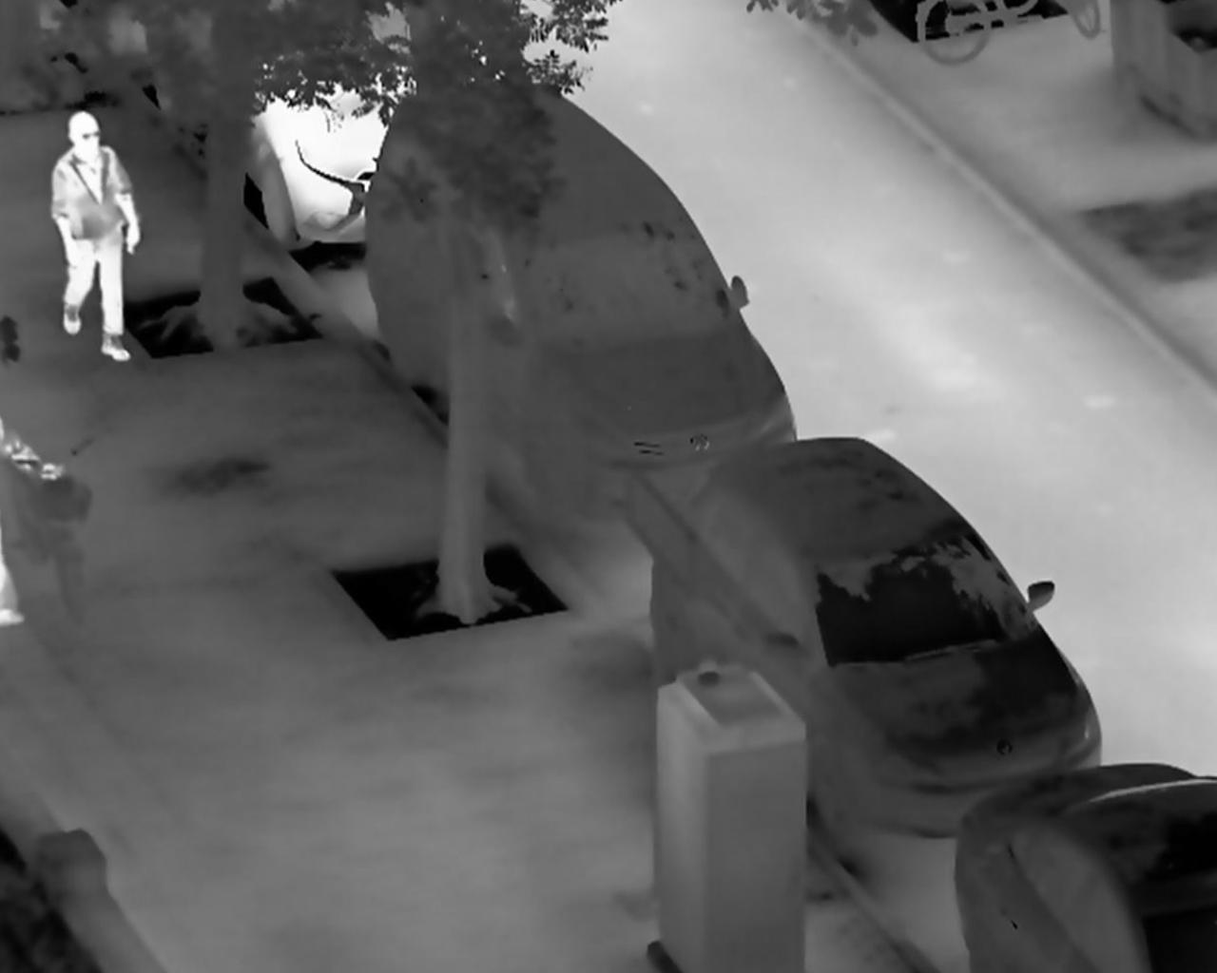person: (49, 109, 143, 366)
